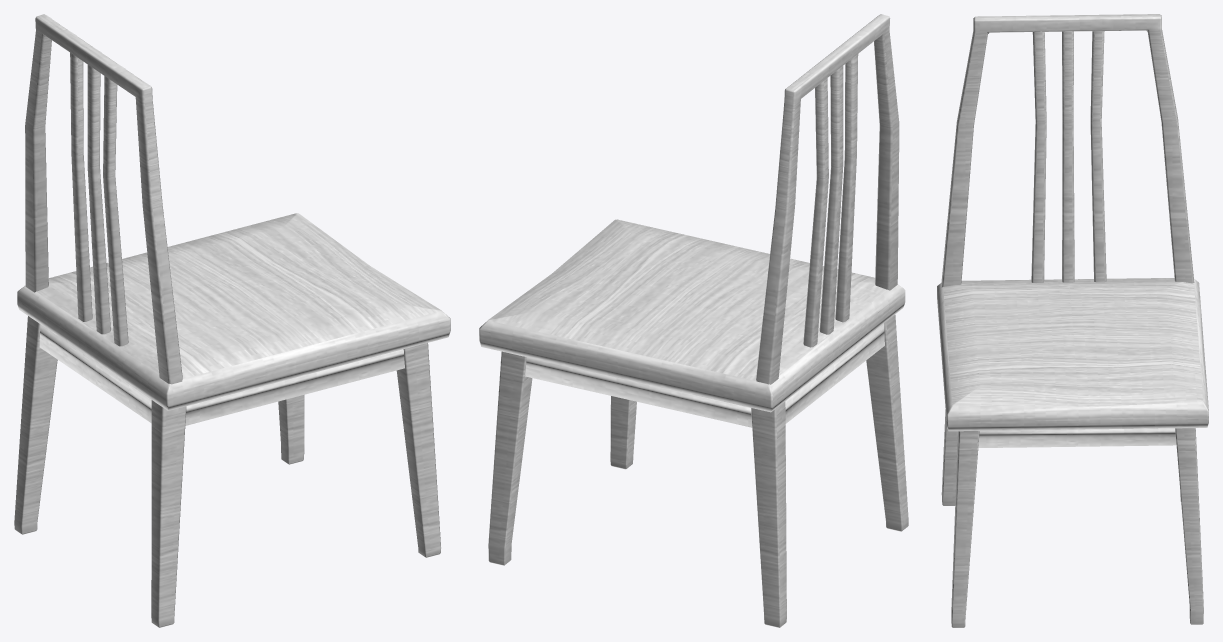
File: Chair_9f65dae8.obj
The picture shows the model from 3 angles, left to right: view 1: azimuth 30°, elevation 25°; view 2: azimuth 150°, elevation 25°; view 3: azimuth 270°, elevation 25°; orthographic projection. The views are drawn at different scales.
Visible parts, largest first — view 1: Mesh_8af47f16; view 2: Mesh_8af47f16; view 3: Mesh_8af47f16.
Boxes of the visible parts, x1=… form: Mesh_8af47f16: x1=14, y1=14, x2=450, y2=627; Mesh_8af47f16: x1=479, y1=14, x2=908, y2=627; Mesh_8af47f16: x1=937, y1=14, x2=1208, y2=627.
Bounding box in the file's own units: 0.4642 × 0.7705 × 0.3922.
